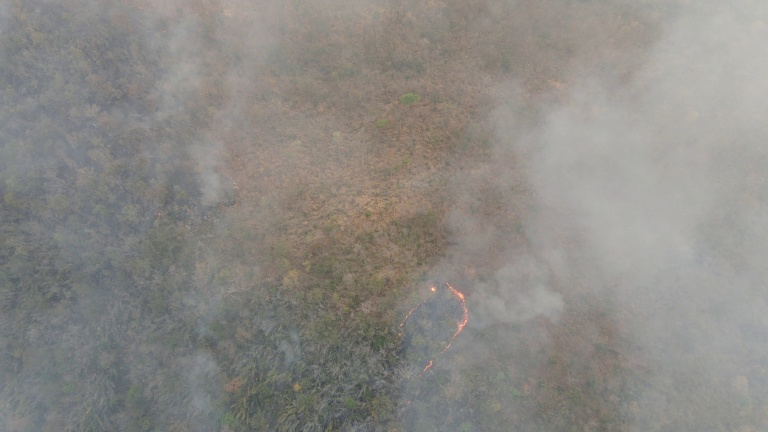fire: (394, 272, 476, 373)
smoke: (396, 1, 768, 432), (1, 1, 252, 429)
